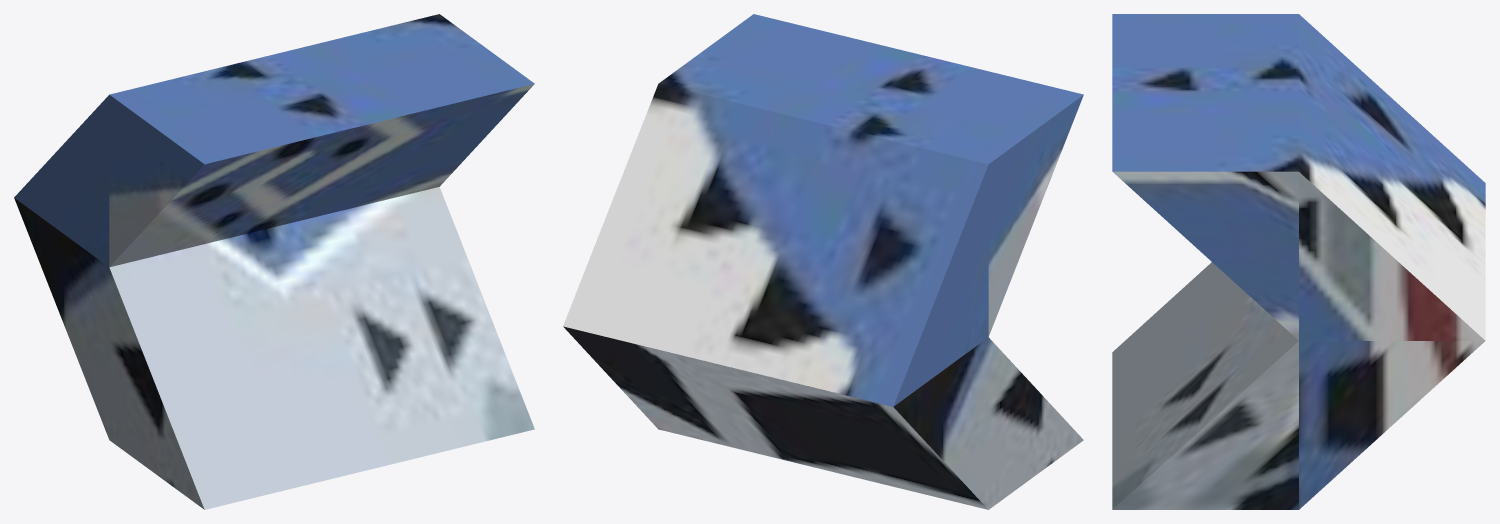
The model's file is Enemy.obj.
The picture shows the model from 3 angles, left to right: view 1: azimuth 30°, elevation 25°; view 2: azimuth 150°, elevation 25°; view 3: azimuth 270°, elevation 25°; orthographic projection. The views are drawn at different scales.
Visible parts, largest first — view 1: 立方体; view 2: 立方体; view 3: 立方体.
Part boxes in pixels (x1,y1,x2,y2): 立方体: (14,14,534,509); 立方体: (563,14,1083,509); 立方体: (1112,14,1485,509).
Size of the model in its own units: 1 by 1 by 1.
Materials: 1 (1 with a texture image).
